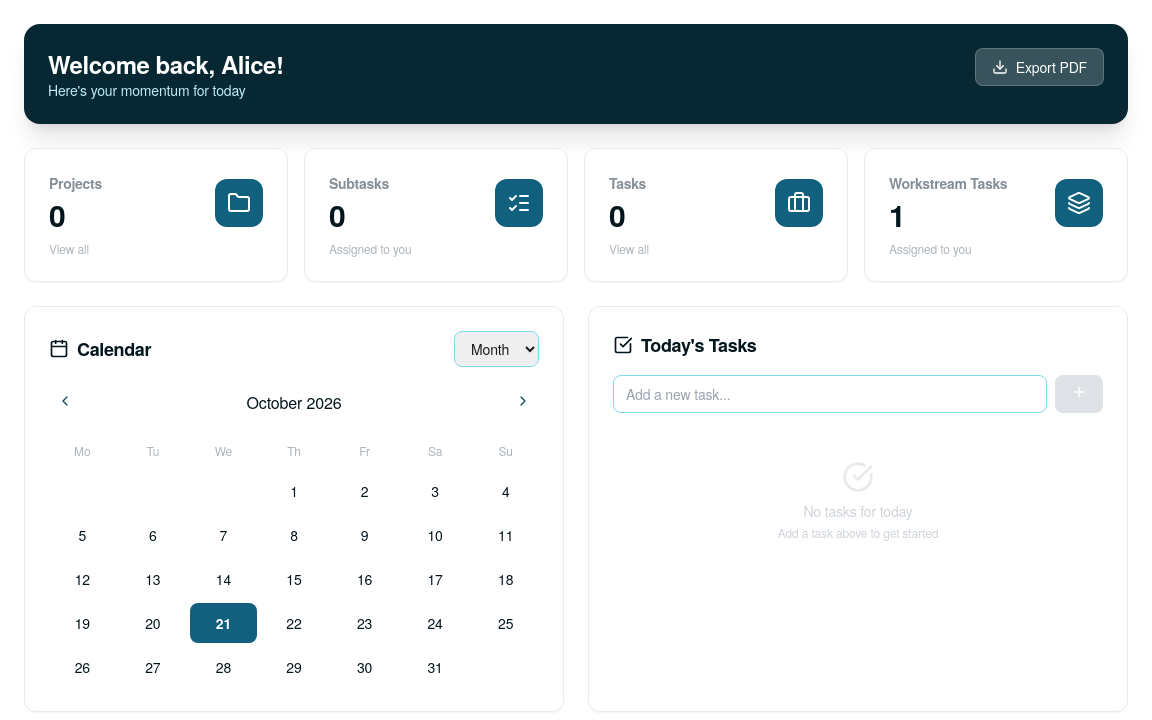
Test: Dashboard workstream scoping › shows only assigned workstream tasks in the dashboard task list
Click the text "Workstream Tasks": (948,183) [889,173,1007,193]
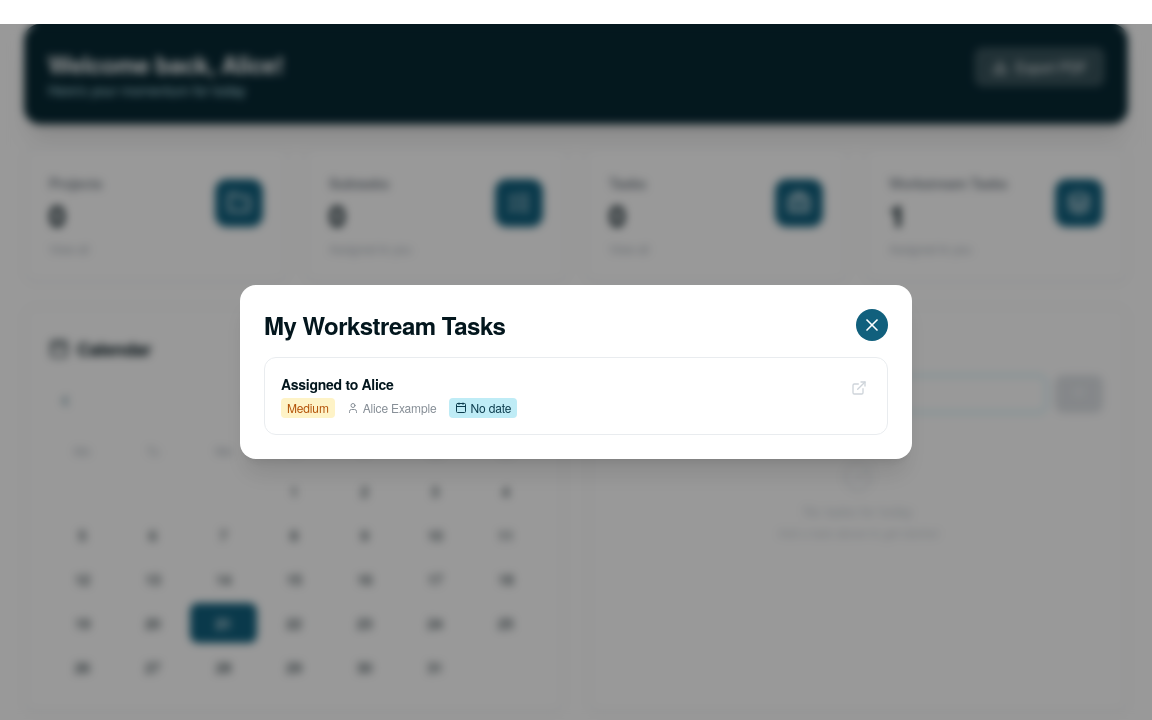
Expected: the heading "My Workstream Tasks" is shown, [264,309,505,341]
Expected: the text "Assigned to Alice" is shown, [281,374,394,394]
